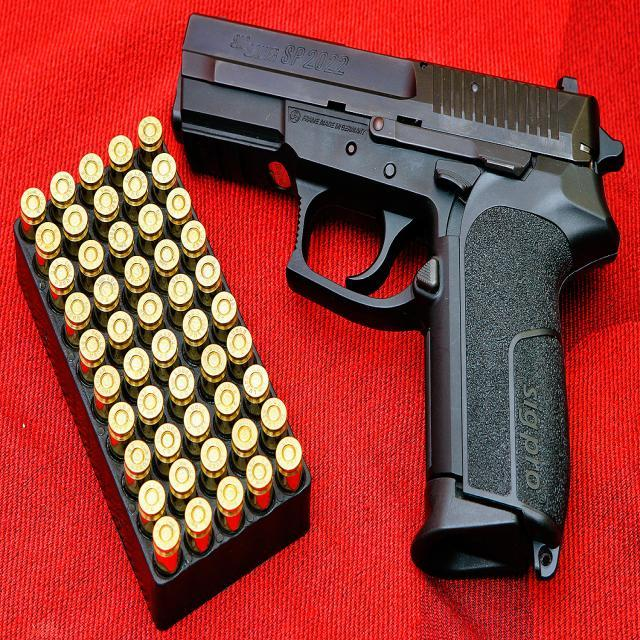Pistol: (157, 0, 636, 587)
